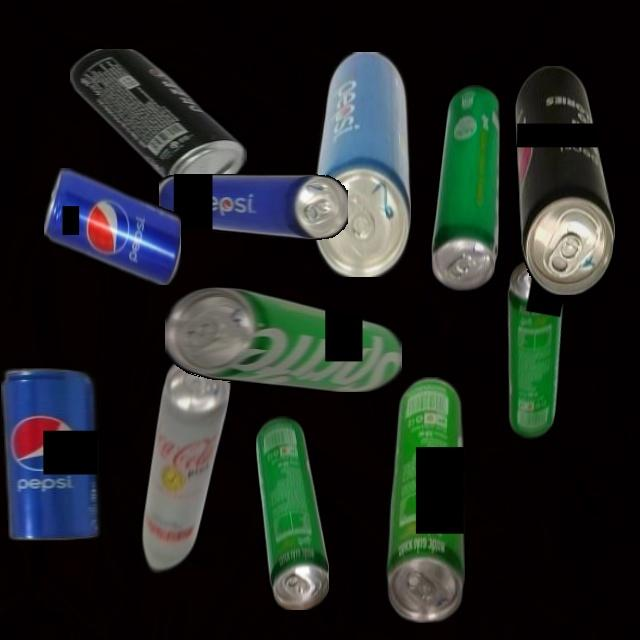debris: (70, 48, 247, 193), (165, 286, 402, 392), (131, 352, 235, 580), (514, 65, 615, 295), (311, 51, 411, 277), (384, 376, 465, 623), (483, 254, 581, 443), (1, 367, 101, 541), (43, 167, 181, 285), (430, 84, 503, 291), (255, 415, 329, 610), (158, 174, 348, 240)
